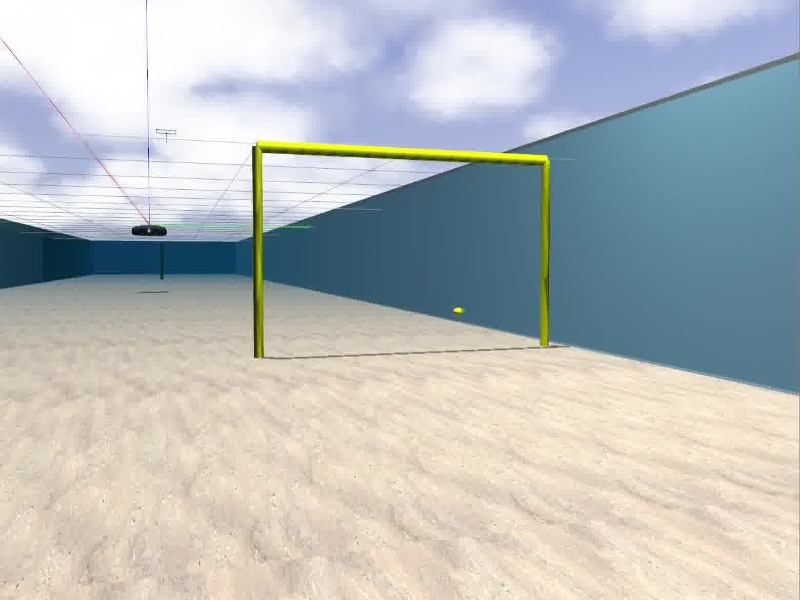gate: (250, 140, 553, 358)
